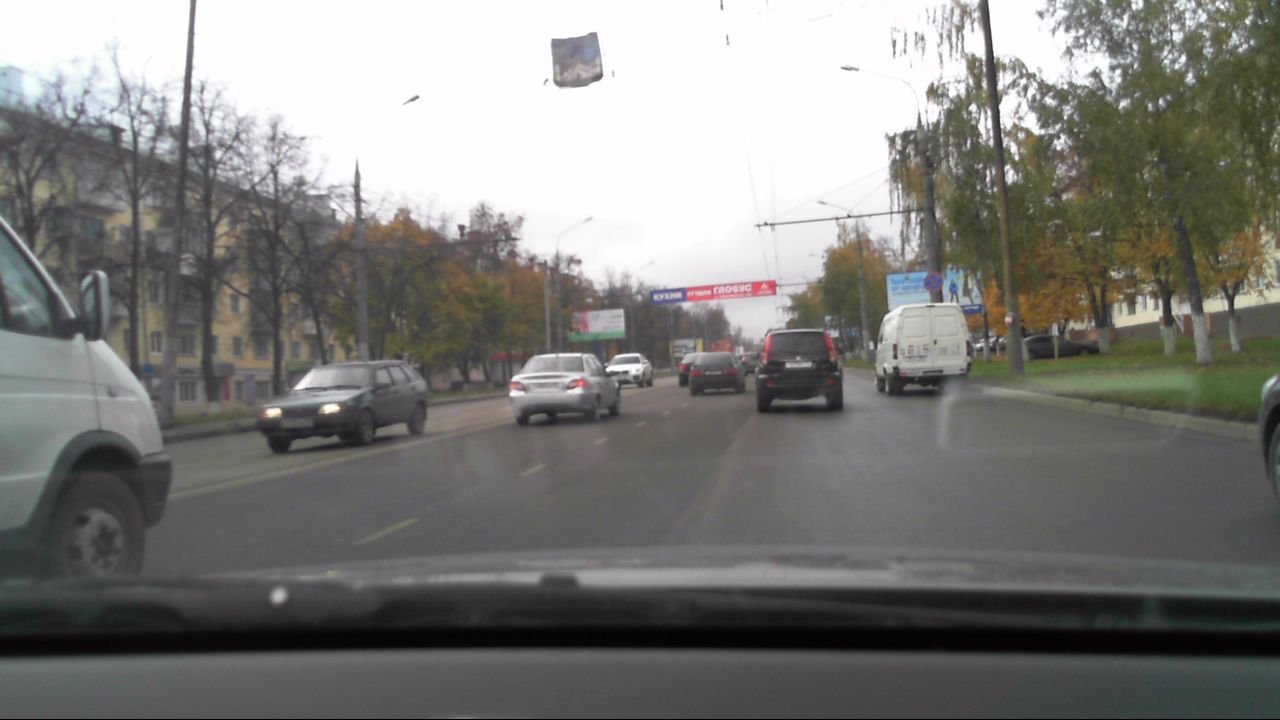No Parking: (920, 268, 948, 294)
